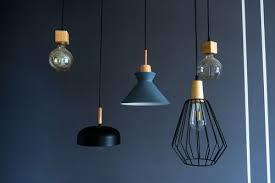light: (76, 0, 121, 149), (120, 0, 172, 111), (184, 0, 210, 132), (47, 1, 75, 75), (197, 0, 220, 84)
